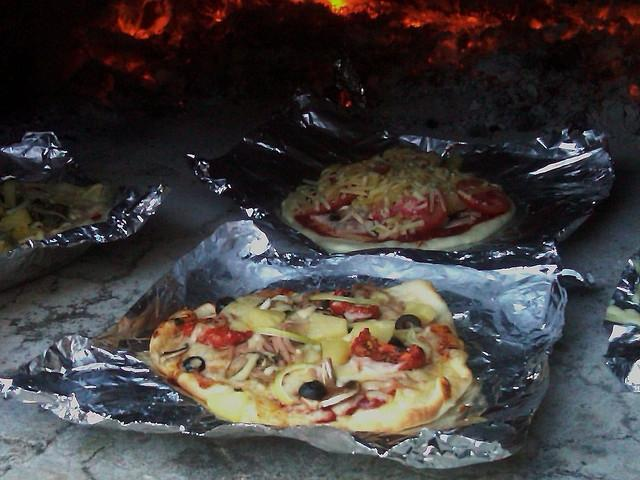mushroom: (322, 356, 361, 408), (226, 352, 270, 378), (228, 352, 260, 386), (351, 282, 390, 299), (439, 215, 476, 229), (257, 297, 276, 310), (271, 296, 294, 306), (330, 210, 348, 221)
pineapple: (342, 320, 396, 344), (308, 313, 348, 340), (242, 307, 286, 329), (0, 207, 33, 233), (403, 301, 438, 325), (320, 339, 352, 365)
